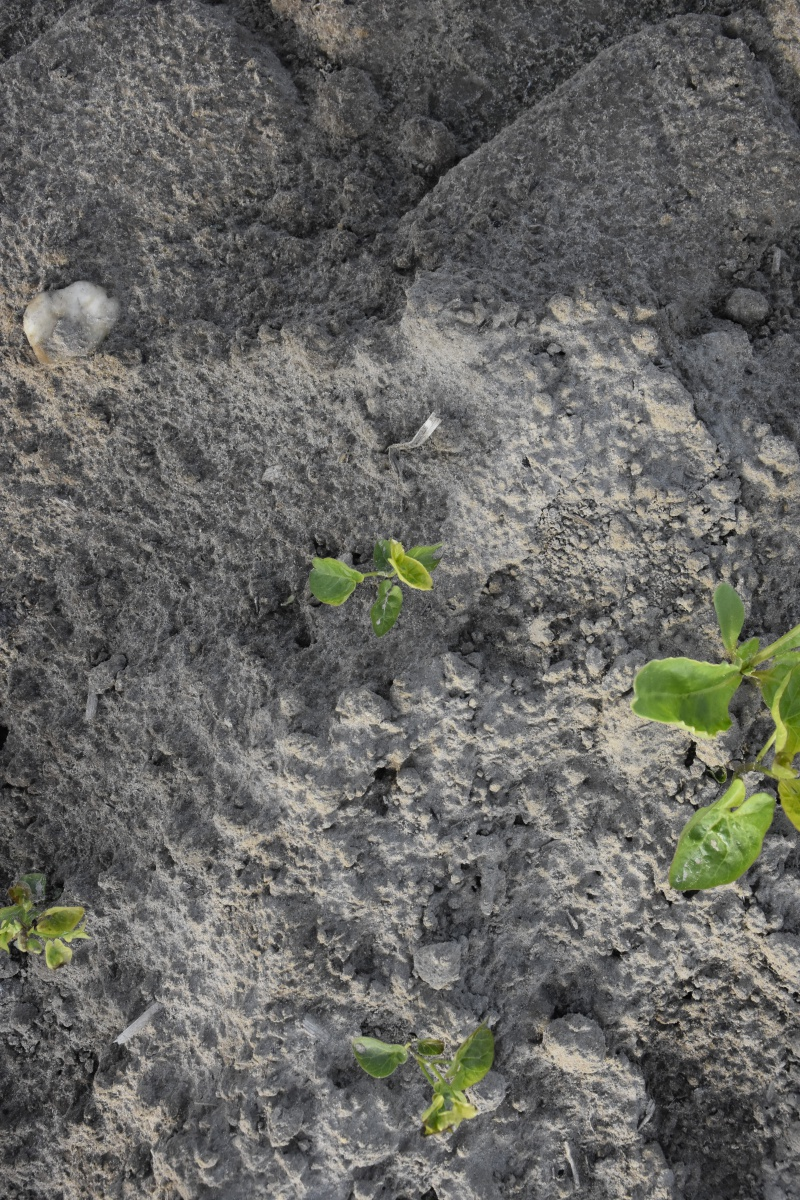field bindweed: (666, 718, 800, 908), (352, 1023, 500, 1146), (299, 535, 446, 635), (1, 872, 103, 961)
sugar beet: (632, 597, 800, 735)
